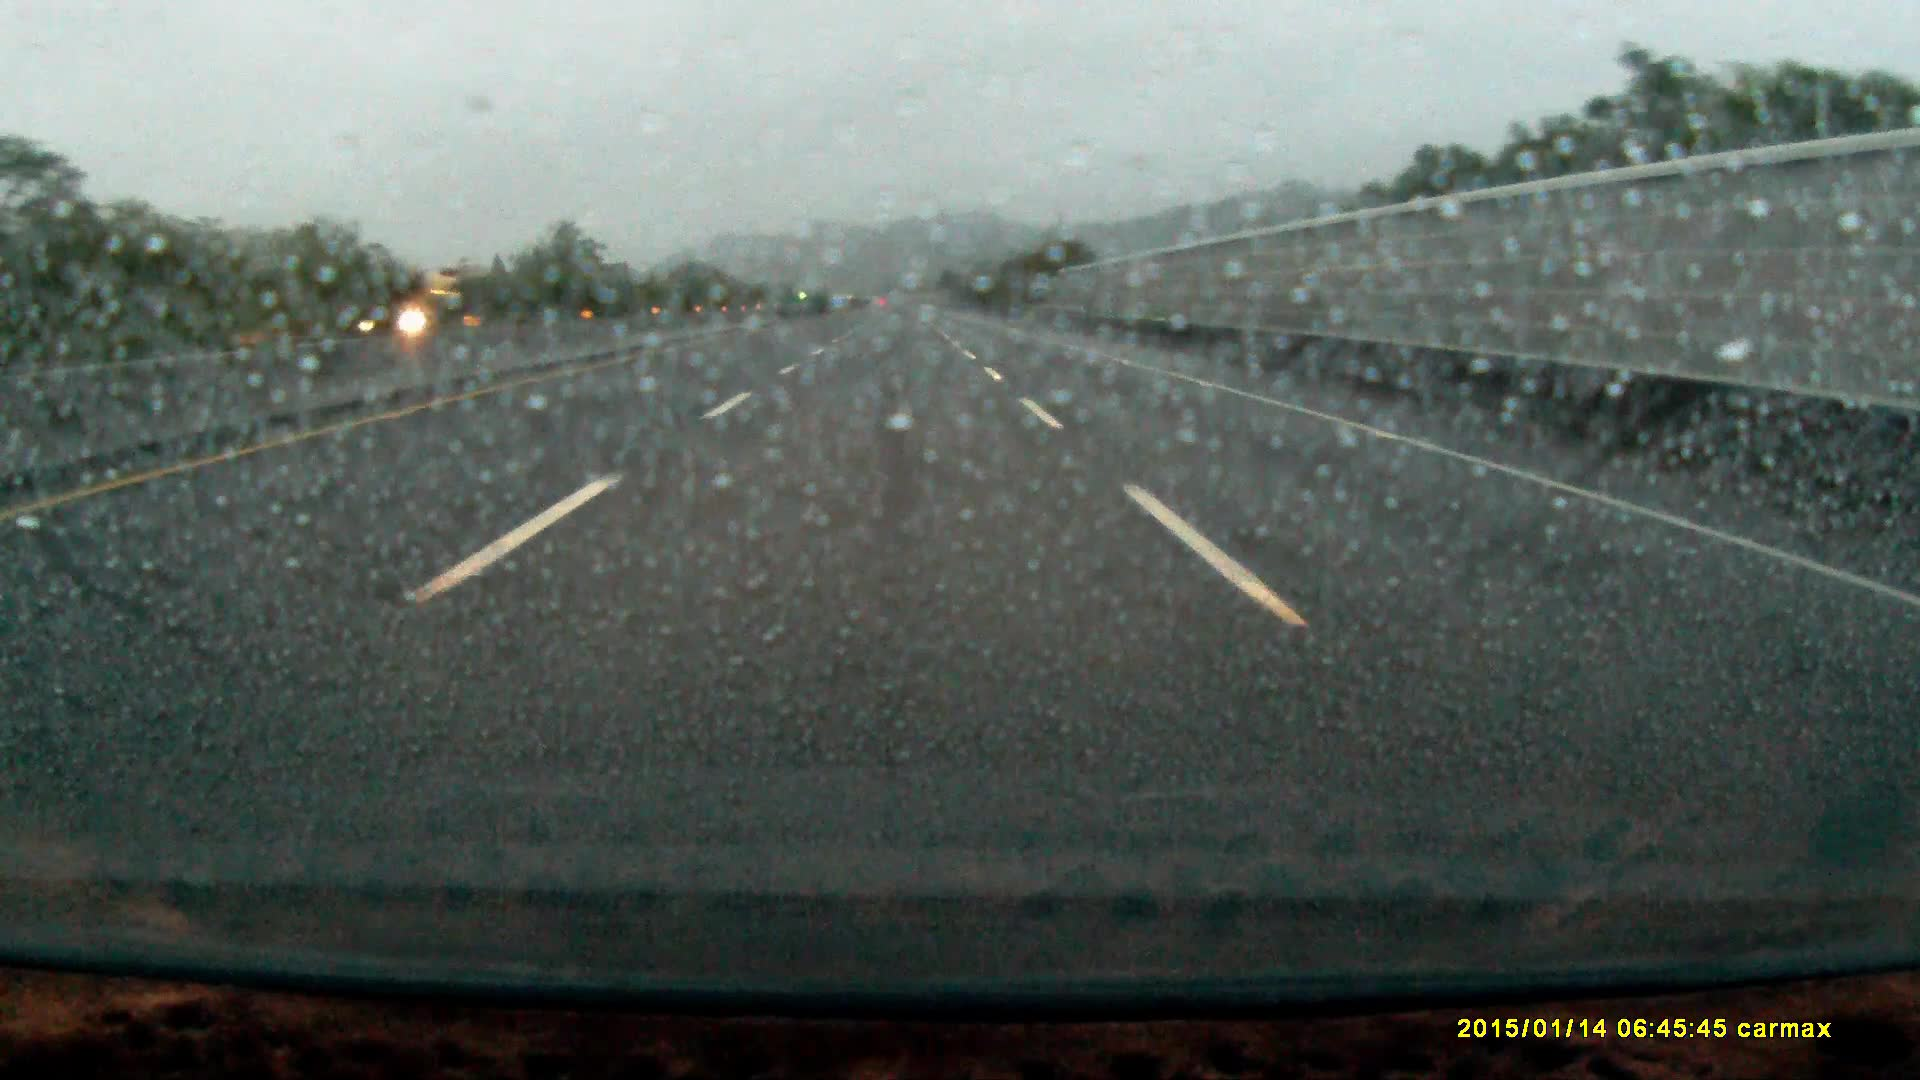vehicle: (382, 269, 487, 334)
